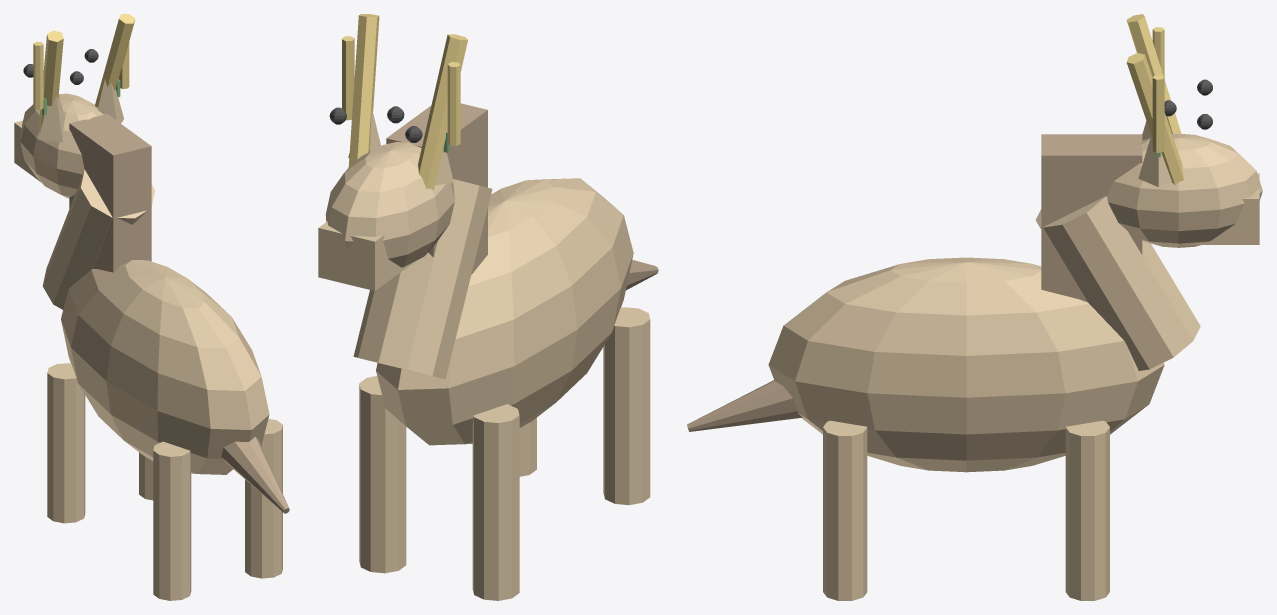
The model's file is golden_deer.glb.
3 renders of one model, left to right at view 1: azimuth 30°, elevation 25°; view 2: azimuth 150°, elevation 25°; view 3: azimuth 270°, elevation 25°, orthographic. The views are drawn at different scales.
Parts seen in each view (by area): view 1: deer_body, deer_surai, deer_leg_BL, deer_leg_FL, deer_neck, deer_head, deer_leg_BR, deer_tail, deer_antler_1, deer_antler_-1, deer_telinga_-1, deer_antler_cabang_-1 (+3 smaller); view 2: deer_body, deer_neck, deer_head, deer_leg_FL, deer_leg_BL, deer_leg_FR, deer_moncong, deer_surai, deer_antler_1, deer_antler_-1, deer_antler_cabang_-1, deer_antler_cabang_1 (+2 smaller); view 3: deer_body, deer_neck, deer_head, deer_surai, deer_leg_FR, deer_leg_BR, deer_tail, deer_antler_1, deer_moncong, deer_antler_-1, deer_antler_cabang_1, deer_telinga_1.
Part boxes in pixels (left/top/right/bottom): deer_body: left=61, top=260, right=269, bottom=474; deer_surai: left=69, top=114, right=151, bottom=272; deer_leg_BL: left=153, top=441, right=191, bottom=600; deer_leg_FL: left=47, top=363, right=85, bottom=523; deer_neck: left=42, top=170, right=155, bottom=309; deer_head: left=20, top=93, right=103, bottom=198; deer_leg_BR: left=245, top=418, right=282, bottom=578; deer_tail: left=221, top=436, right=289, bottom=513; deer_antler_1: left=95, top=14, right=135, bottom=107; deer_antler_-1: left=38, top=30, right=63, bottom=132; deer_telinga_-1: left=38, top=95, right=64, bottom=142; deer_antler_cabang_-1: left=33, top=41, right=43, bottom=109; deer_body: left=376, top=178, right=633, bottom=445; deer_neck: left=353, top=179, right=492, bottom=379; deer_head: left=325, top=142, right=454, bottom=267; deer_leg_FL: left=472, top=404, right=519, bottom=600; deer_leg_BL: left=603, top=307, right=650, bottom=505; deer_leg_FR: left=359, top=376, right=406, bottom=573; deer_moncong: left=318, top=221, right=415, bottom=290; deer_surai: left=386, top=103, right=487, bottom=274; deer_antler_1: left=348, top=14, right=379, bottom=166; deer_antler_-1: left=418, top=34, right=467, bottom=189; deer_antler_cabang_-1: left=447, top=62, right=460, bottom=145; deer_antler_cabang_1: left=342, top=36, right=354, bottom=120; deer_body: left=768, top=257, right=1164, bottom=472; deer_neck: left=1035, top=196, right=1200, bottom=370; deer_head: left=1107, top=133, right=1262, bottom=247; deer_surai: left=1041, top=134, right=1142, bottom=302; deer_leg_FR: left=1065, top=420, right=1109, bottom=600; deer_leg_BR: left=823, top=420, right=867, bottom=600; deer_tail: left=687, top=380, right=802, bottom=431; deer_antler_1: left=1126, top=53, right=1183, bottom=184; deer_moncong: left=1182, top=173, right=1259, bottom=244; deer_antler_-1: left=1126, top=14, right=1181, bottom=133; deer_antler_cabang_1: left=1152, top=75, right=1164, bottom=152; deer_telinga_1: left=1138, top=135, right=1171, bottom=186.
Size of the model in its own units: 0.8092 by 2.9 by 2.85.
